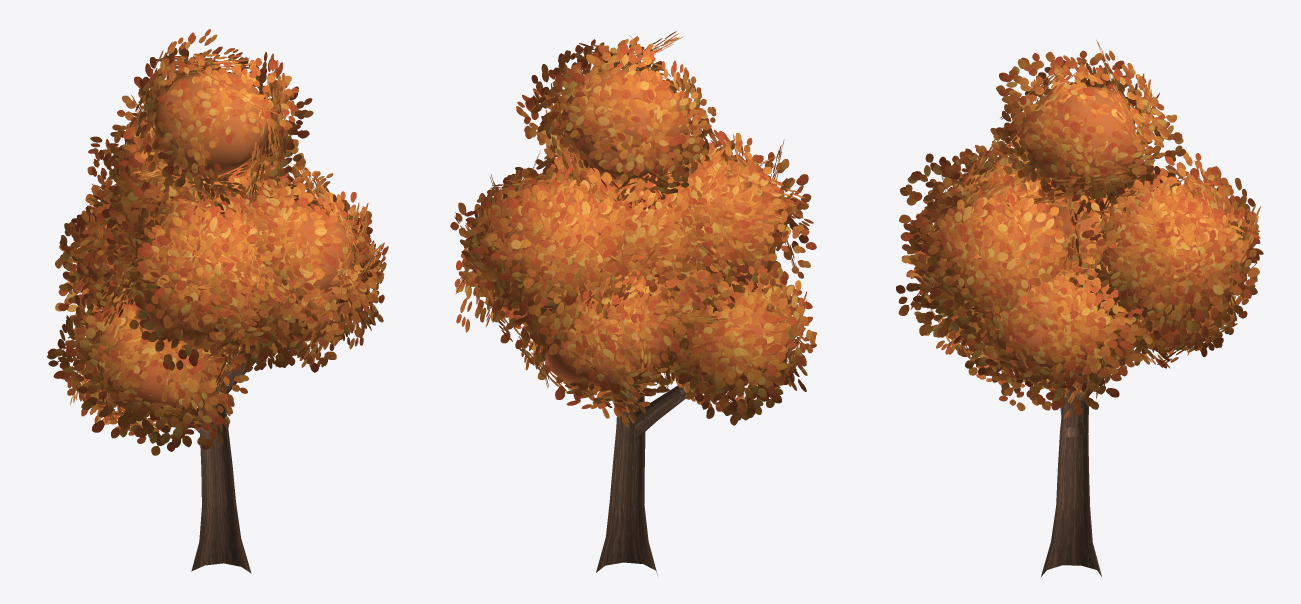
File: tree_maple.glb
3 renders of one model, left to right at view 1: azimuth 30°, elevation 25°; view 2: azimuth 150°, elevation 25°; view 3: azimuth 270°, elevation 25°, orthographic. The views are drawn at different scales.
Visible parts, largest first — view 1: tree_maple, tree_maple_bark_Maple; view 2: tree_maple, tree_maple_bark_Maple; view 3: tree_maple, tree_maple_bark_Maple.
Boxes of the visible parts, x1,y1,x2,y2 form: tree_maple: (47,29,388,455); tree_maple_bark_Maple: (188,353,255,573); tree_maple: (450,31,817,427); tree_maple_bark_Maple: (596,384,691,575); tree_maple: (896,40,1263,419); tree_maple_bark_Maple: (1041,347,1135,576).
Bounding box in the file's own units: 7.46 × 10.79 × 7.41.
3 materials, 2 textured.
